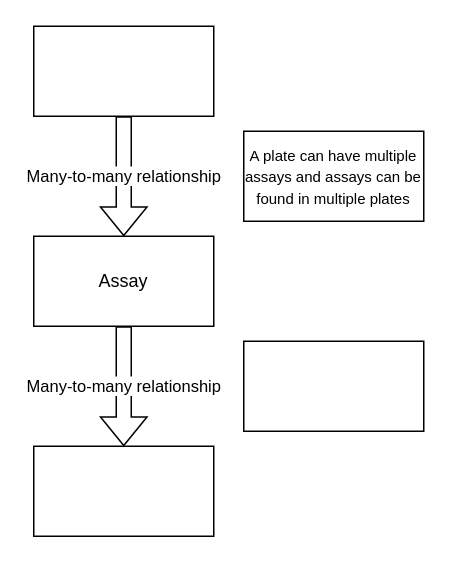
Image size: 450x563. Some labels were removed from this diagram. The shapes that lost their labels are listed below. From the top down, each one's box as (x1, y1, x2, y2) in pixels, then its label:
(32, 25, 214, 116): Plate
(32, 445, 214, 536): Reagent
